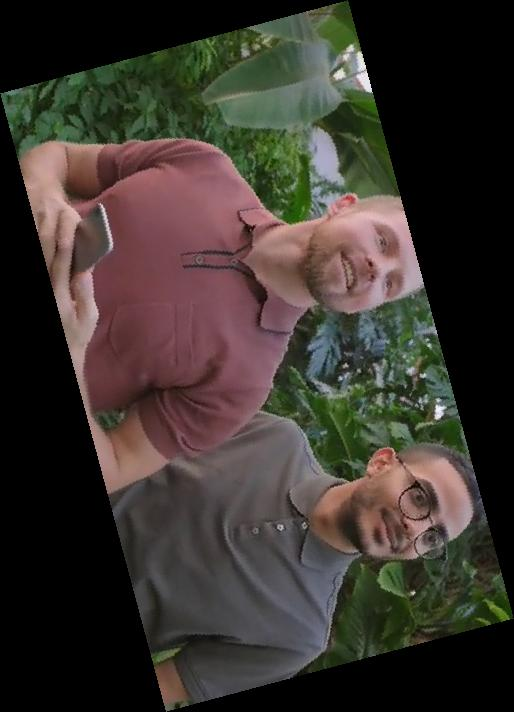phone: (69, 198, 115, 285)
